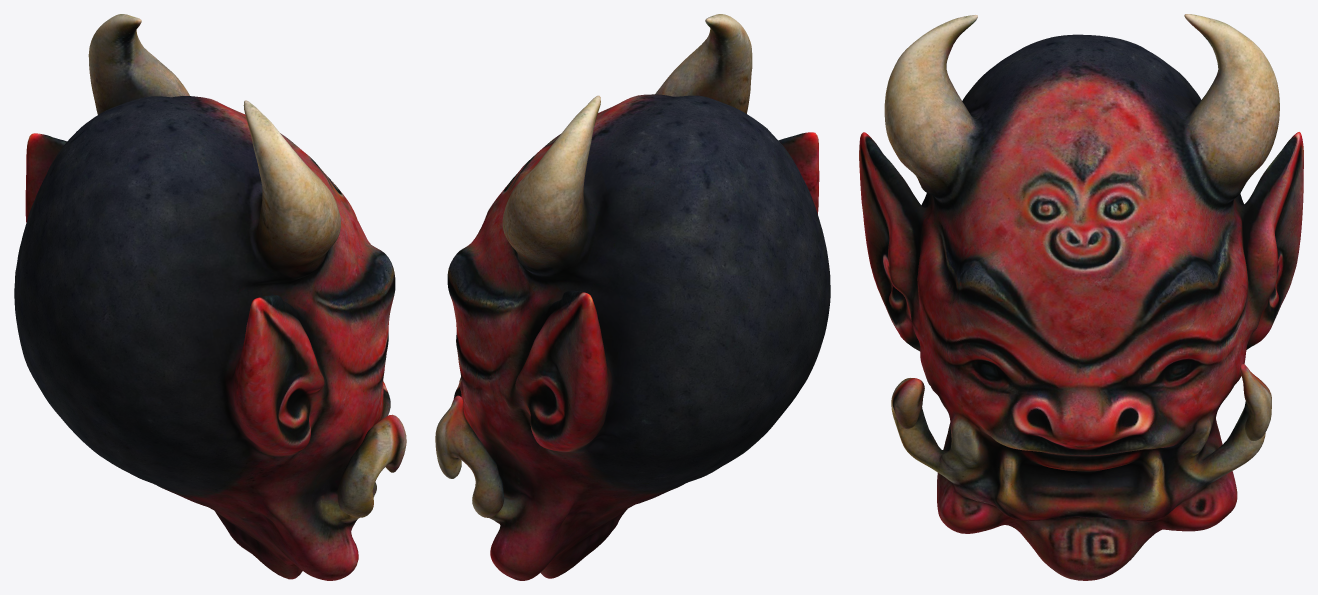
The model's file is chinese_demon_mask_2.glb.
3 views of the same model, side by side, from view 1: azimuth 30°, elevation 25°; view 2: azimuth 150°, elevation 25°; view 3: azimuth 270°, elevation 25° (orthographic). The views are drawn at different scales.
Parts seen in each view (by area): view 1: default_003-material; view 2: default_003-material; view 3: default_003-material.
Boxes of the visible parts, box(x1,y1,x2,y2) form: default_003-material: box(14, 14, 406, 580); default_003-material: box(435, 14, 830, 580); default_003-material: box(859, 14, 1303, 580).
Bounding box in the file's own units: 1.16 × 1.76 × 1.36.
Materials: 1 (1 with a texture image).
